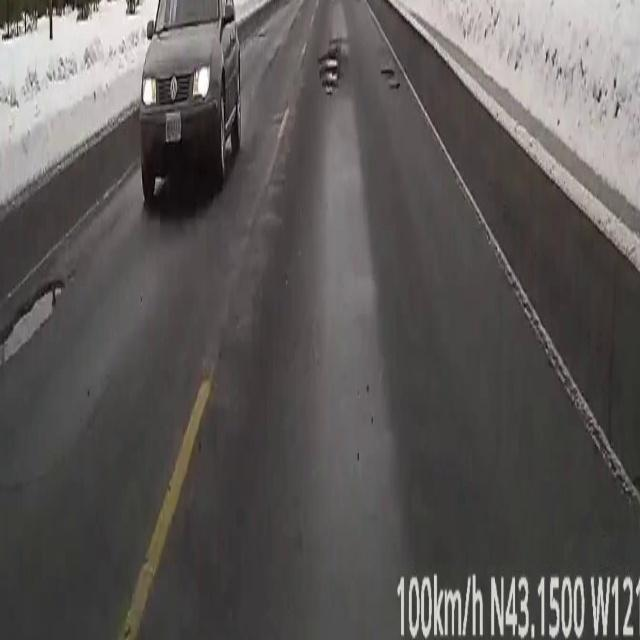pothole: (0, 279, 64, 366), (318, 46, 339, 97), (380, 65, 400, 88)
